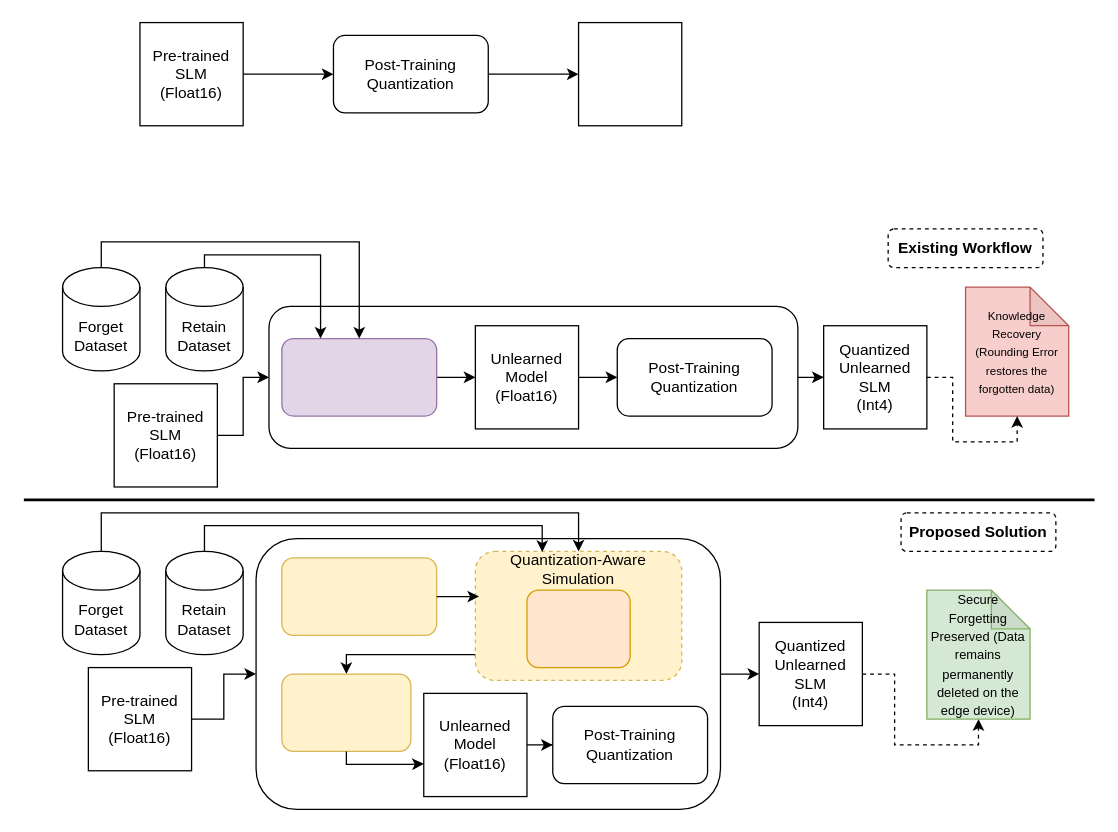
Some shapes in this 1118 by 832 pixel diagram are drawn without their labels. Each missing label, with the centre of its shape:
"Apply Standard Unlearning method" goes at [359,376].
"Knowledge Localization" goes at [359,596].
"Quantization-Aware Unlearning" goes at [578,628].
"Quantized SLM (Int4)" goes at [629,73].
"Utility Preservation" goes at [346,712].
